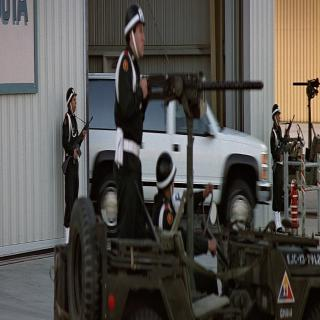gun: (56, 116, 95, 178), (266, 102, 297, 166)
